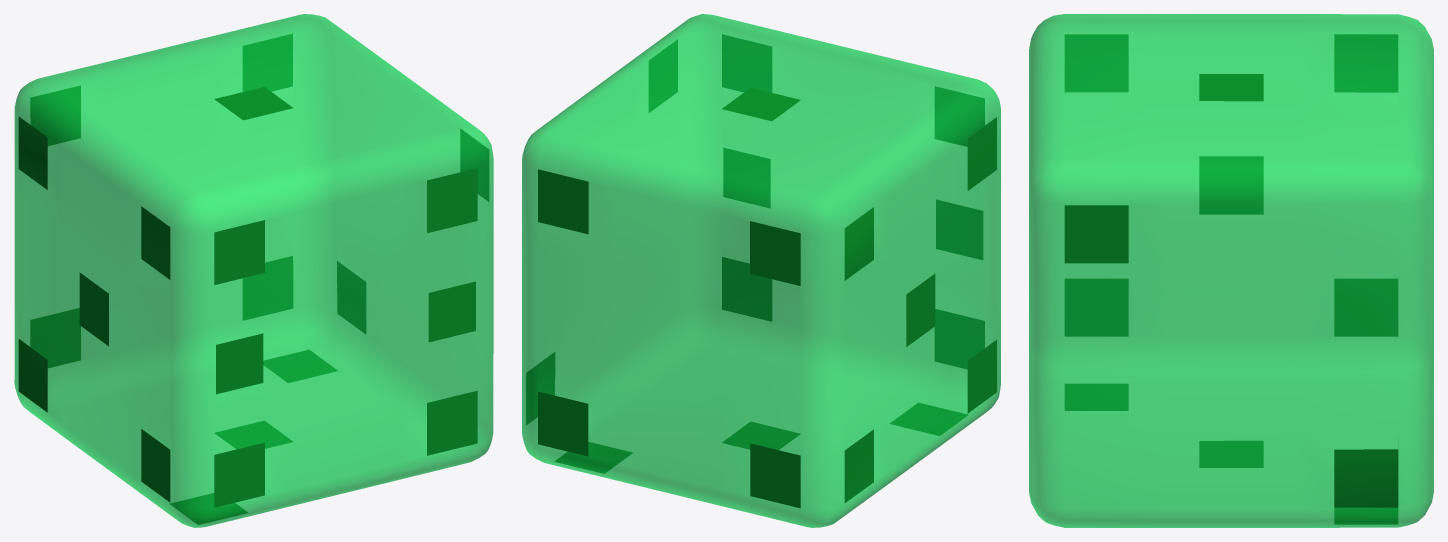
File: Reflec.fbx
3 renders of one model, left to right at view 1: azimuth 30°, elevation 25°; view 2: azimuth 150°, elevation 25°; view 3: azimuth 270°, elevation 25°, orthographic. The views are drawn at different scales.
Parts seen in each view (by area): view 1: Glass.001; view 2: Glass.001; view 3: Glass.001.
Boxes of the visible parts, x1,y1,x2,y2 form: Glass.001: [14, 14, 493, 527]; Glass.001: [522, 14, 1000, 527]; Glass.001: [1029, 14, 1433, 527].
Bounding box in the file's own units: 200 × 200 × 200.
